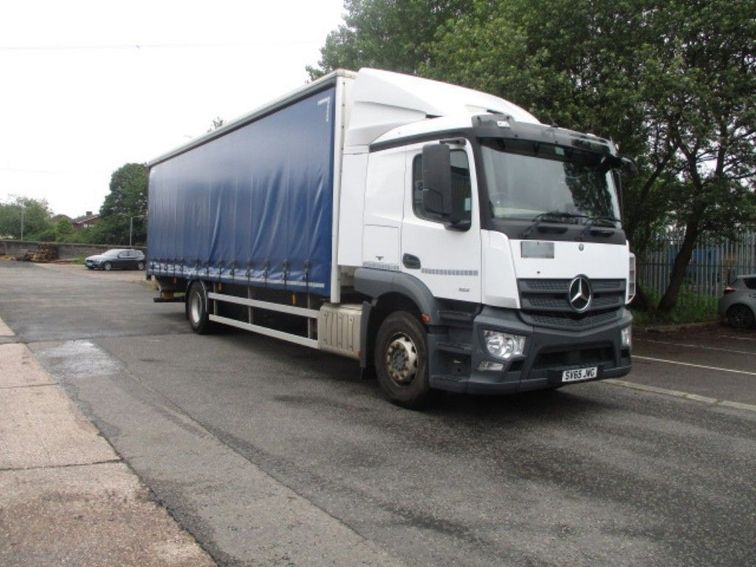Semi: (148, 67, 634, 406)
